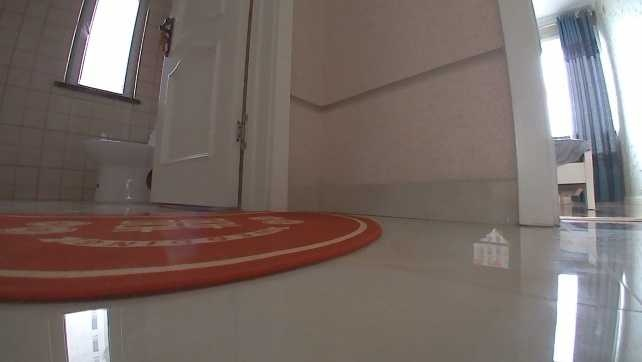blanket: (0, 212, 382, 305)
door_anno: (149, 0, 293, 213)
toilet: (86, 127, 157, 204)
